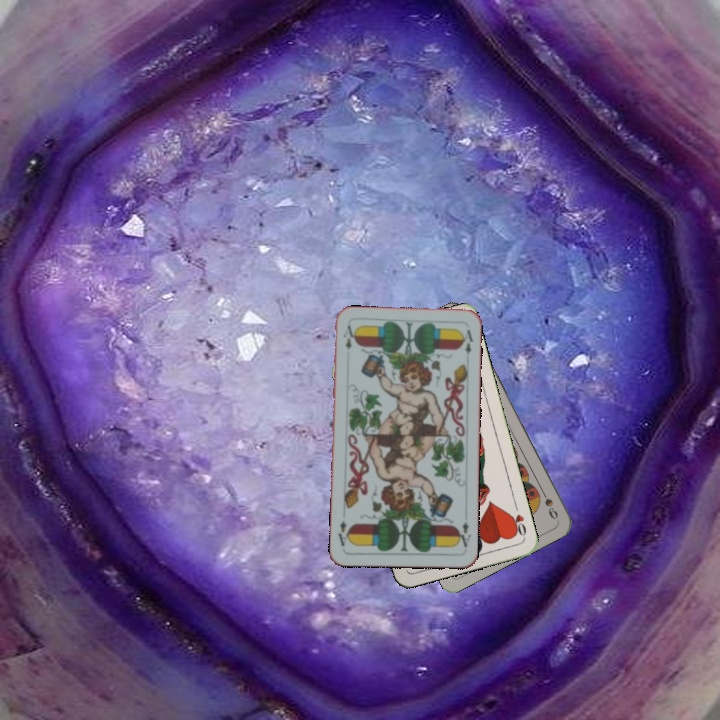EA: (453, 517, 473, 549), (339, 321, 356, 352)
HO: (506, 500, 529, 540)
S9: (536, 484, 561, 522)
